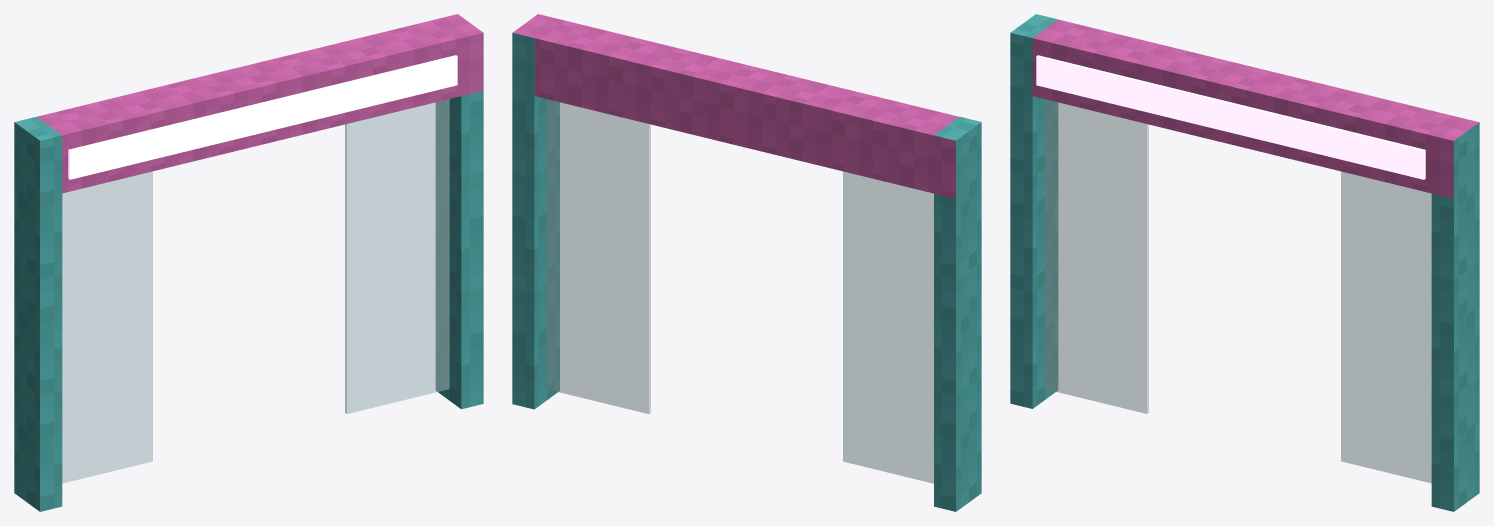
Rendered from three-d-retro-arcade-and-mall-1989-retro-arcade-and-mall-1989-storefront-display-53f0acd1.glb.
3 views of the same model, side by side, from view 1: azimuth 30°, elevation 25°; view 2: azimuth 150°, elevation 25°; view 3: azimuth 330°, elevation 25° (orthographic).
Visible parts, largest first — view 1: storefront-display; view 2: storefront-display; view 3: storefront-display.
Part boxes in pixels (x1,y1,x2,y2): storefront-display: [14, 14, 483, 511]; storefront-display: [512, 14, 981, 511]; storefront-display: [1010, 14, 1479, 511].
Bounding box in the file's own units: 4 × 3.2 × 0.4339.
4 materials, 2 textured.
